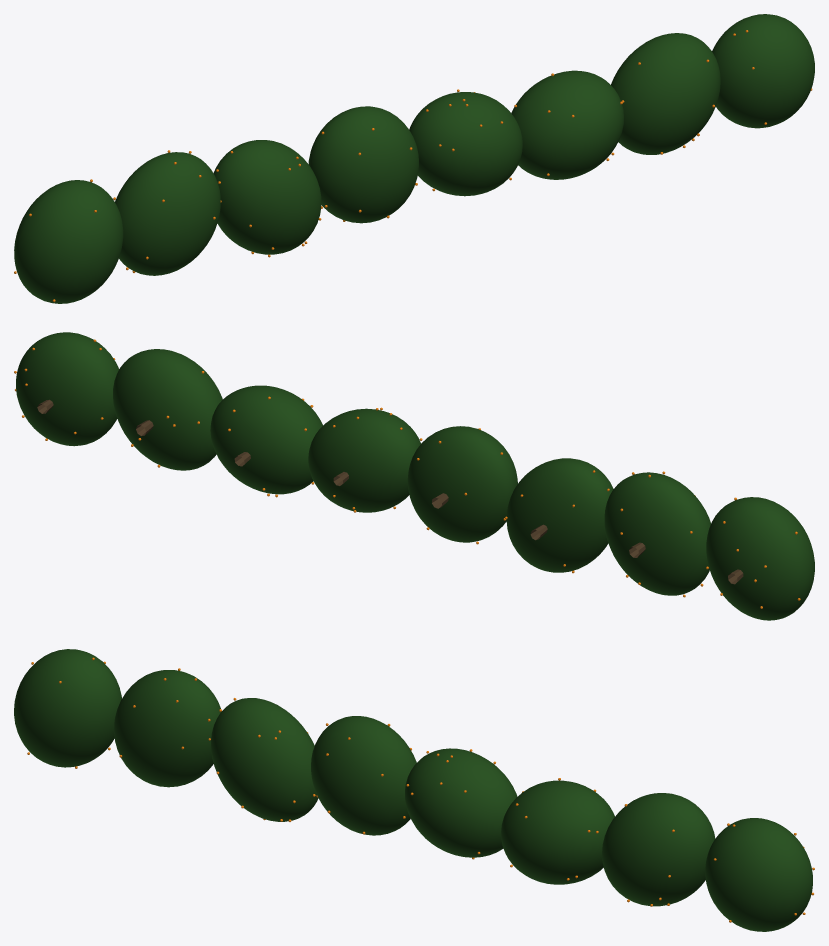
File: citrus_plain8_d_fruit.obj
The picture shows the model from 3 angles, top to bottom: view 1: azimuth 30°, elevation 25°; view 2: azimuth 150°, elevation 25°; view 3: azimuth 330°, elevation 25°; orthographic projection.
Visible parts, largest first — view 1: canopy, fruit; view 2: canopy, trunk, fruit; view 3: canopy, fruit.
Part boxes in pixels (x1=…): canopy: x1=14, y1=14, x2=814, y2=303; fruit: x1=14, y1=30, x2=812, y2=302; canopy: x1=16, y1=332, x2=814, y2=620; trunk: x1=37, y1=399, x2=743, y2=584; fruit: x1=14, y1=339, x2=800, y2=608; canopy: x1=14, y1=649, x2=812, y2=931; fruit: x1=27, y1=657, x2=814, y2=922.
Size of the model in its own units: 24.04 by 3.6 by 2.93.
